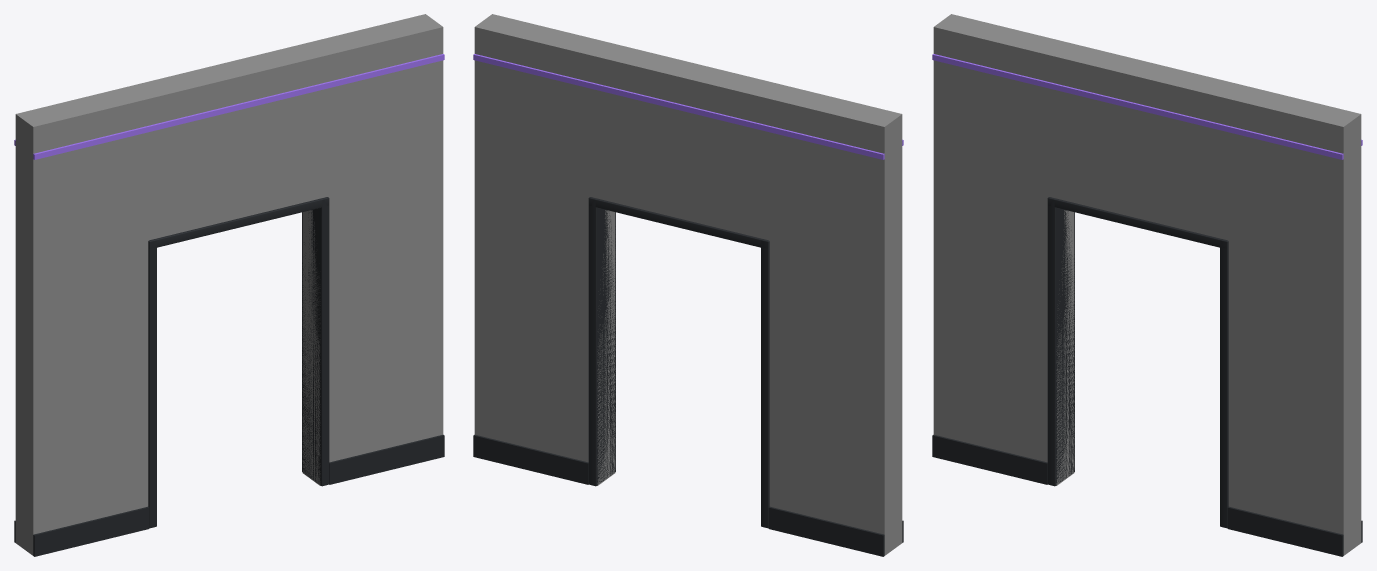
Rendered from Wall_Vault_Door_4m.fbx.
3 renders of one model, left to right at view 1: azimuth 30°, elevation 25°; view 2: azimuth 150°, elevation 25°; view 3: azimuth 330°, elevation 25°, orthographic.
Parts seen in each view (by area): view 1: Wall_Vault_Door_4m_LOD0; view 2: Wall_Vault_Door_4m_LOD0; view 3: Wall_Vault_Door_4m_LOD0.
Part boxes in pixels (x1,y1,x2,y2): Wall_Vault_Door_4m_LOD0: [14, 14, 444, 556]; Wall_Vault_Door_4m_LOD0: [473, 14, 903, 556]; Wall_Vault_Door_4m_LOD0: [932, 14, 1362, 556].
Size of what is drawn, in the model's own units: 4 by 4 by 0.34.
